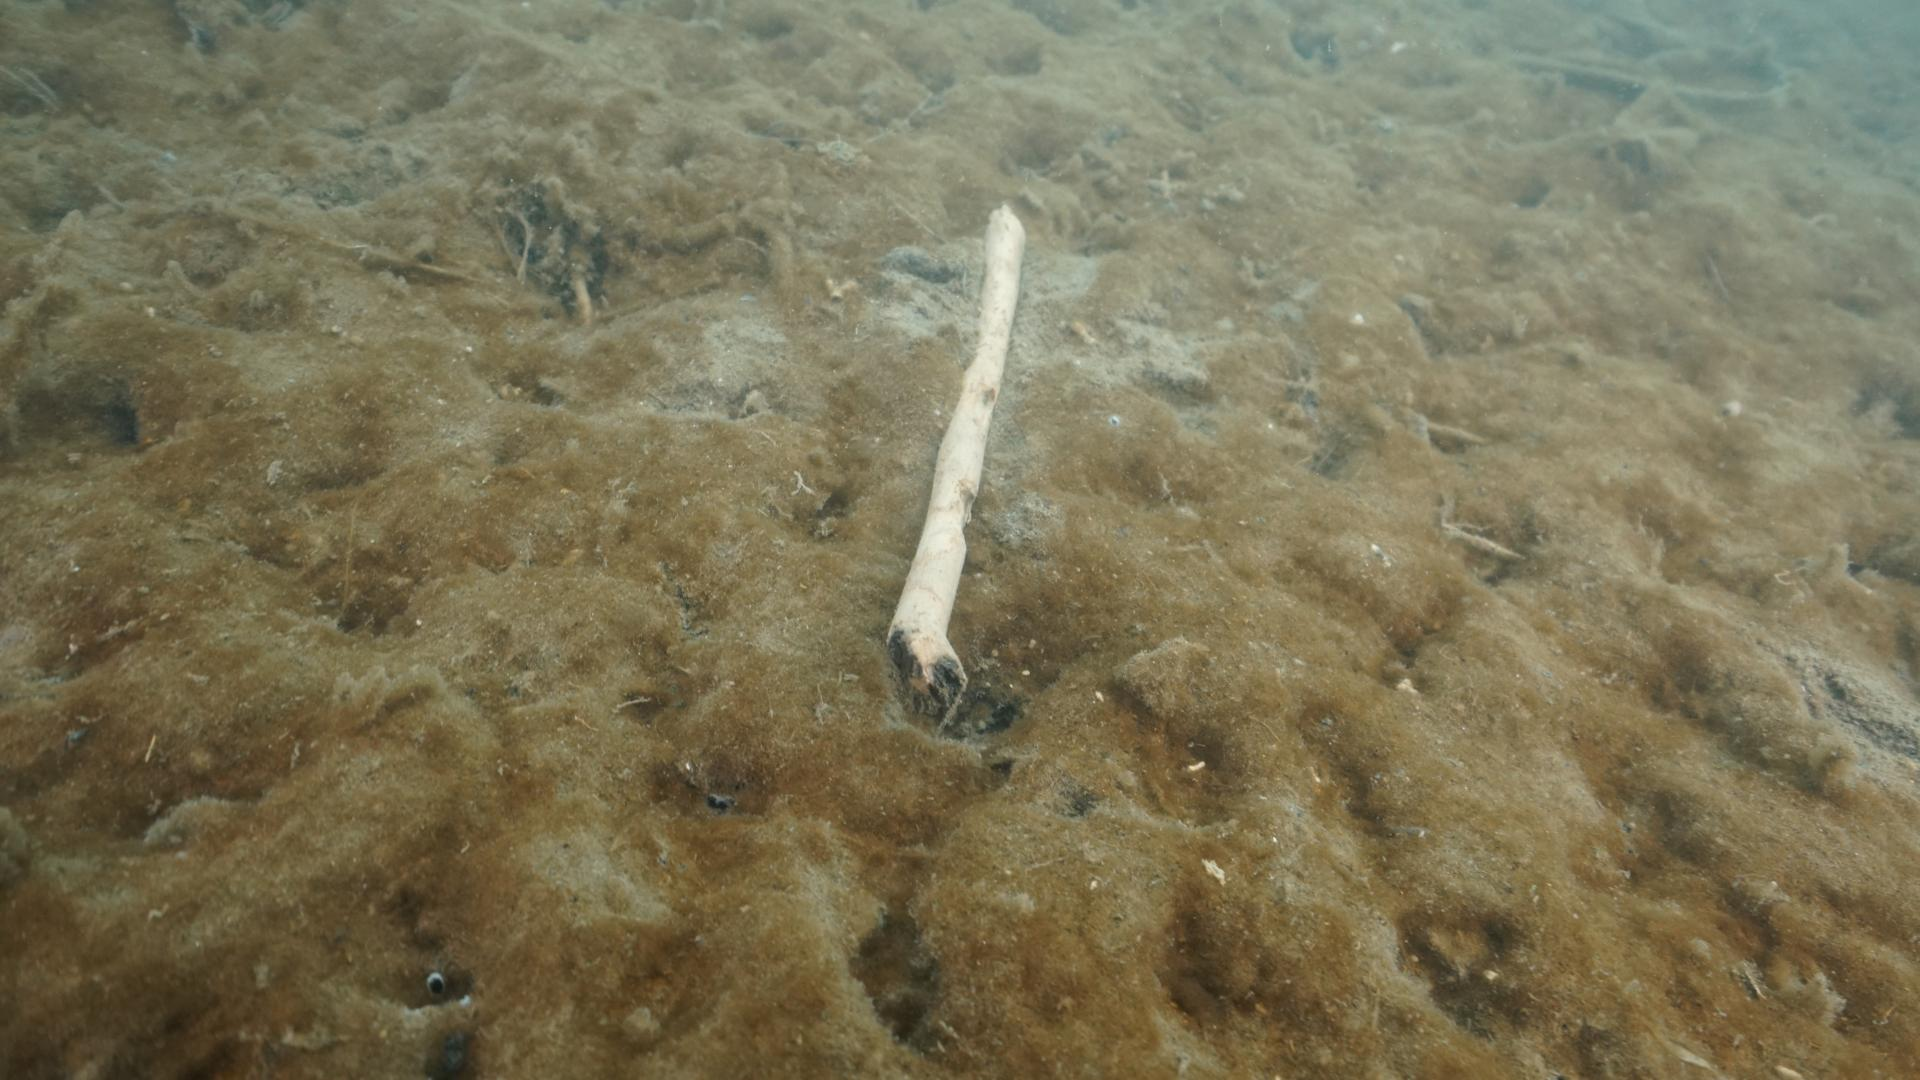wood: (884, 204, 1023, 725)
